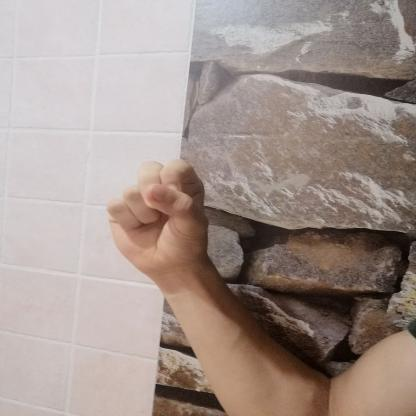QAAF: (92, 154, 224, 282)
